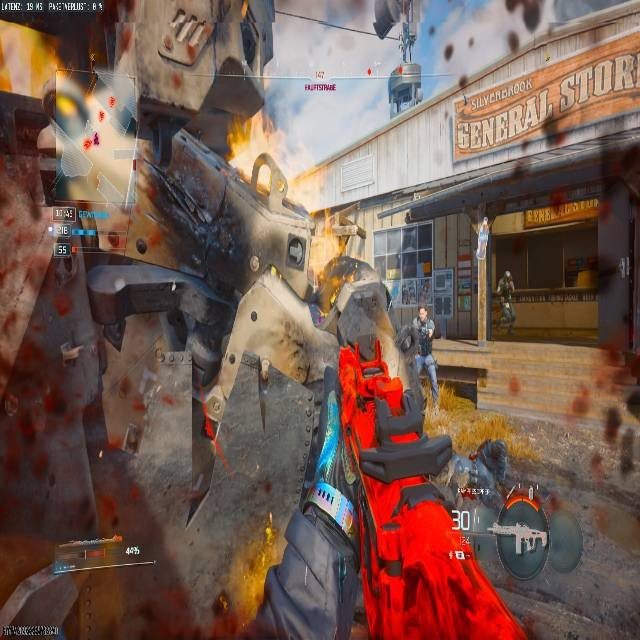head: (415, 310, 426, 325), (418, 307, 428, 321), (504, 270, 512, 279)
player: (47, 0, 418, 554), (396, 306, 439, 412), (495, 270, 517, 336)
